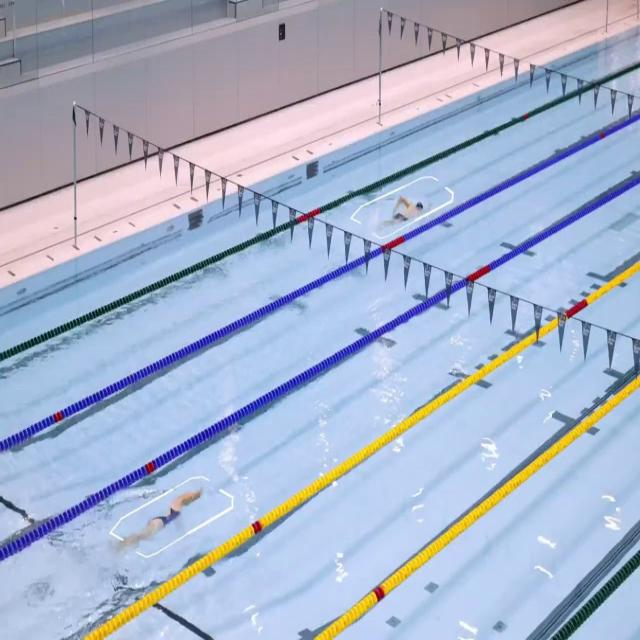Swimming: (117, 482, 205, 557), (374, 196, 433, 236)
